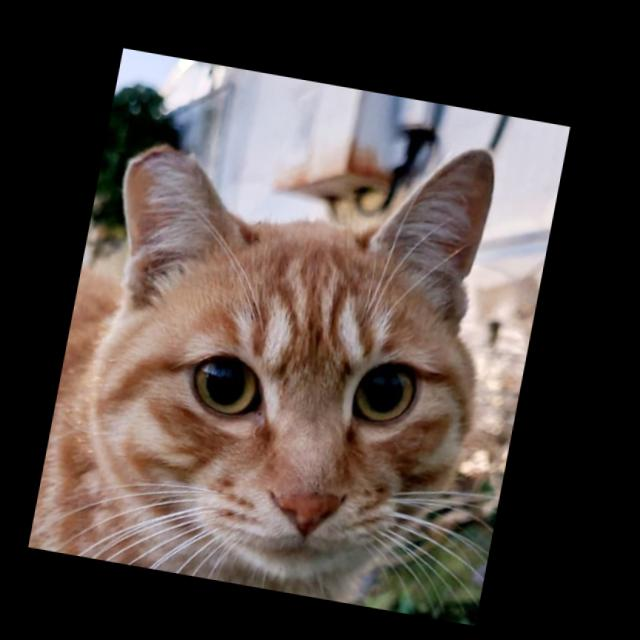animals: (57, 79, 535, 609)
